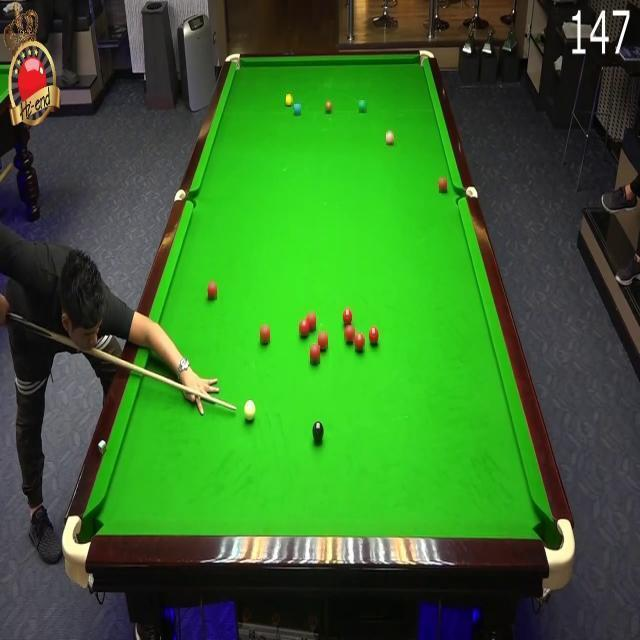Ball: (313, 421, 324, 443), (369, 326, 380, 347), (244, 401, 256, 420), (310, 345, 320, 364), (344, 324, 355, 341), (260, 325, 270, 343), (355, 334, 365, 352), (208, 281, 217, 300), (307, 312, 316, 331), (318, 332, 328, 349), (299, 319, 309, 336), (342, 308, 352, 325), (439, 178, 447, 193), (386, 130, 394, 145), (325, 100, 333, 114), (359, 100, 367, 113), (294, 104, 301, 115), (286, 94, 293, 105)
